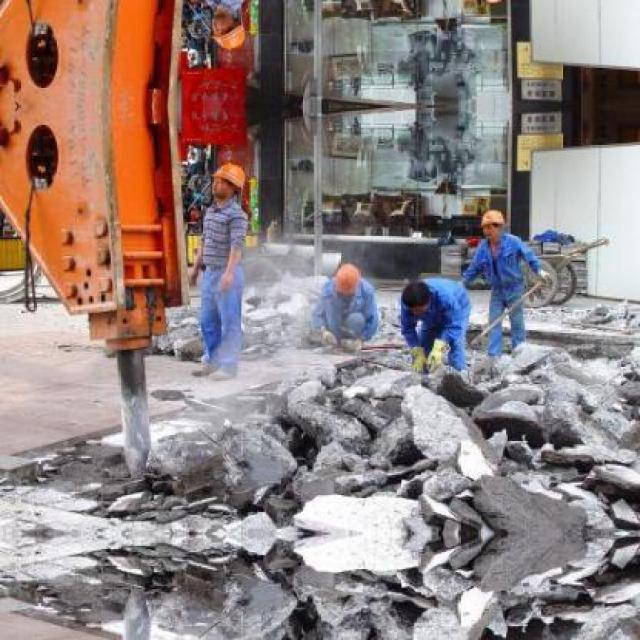helmet: (207, 162, 252, 188), (208, 22, 248, 51), (332, 260, 357, 298), (478, 208, 508, 227)
nohelmet: (402, 282, 432, 318)
